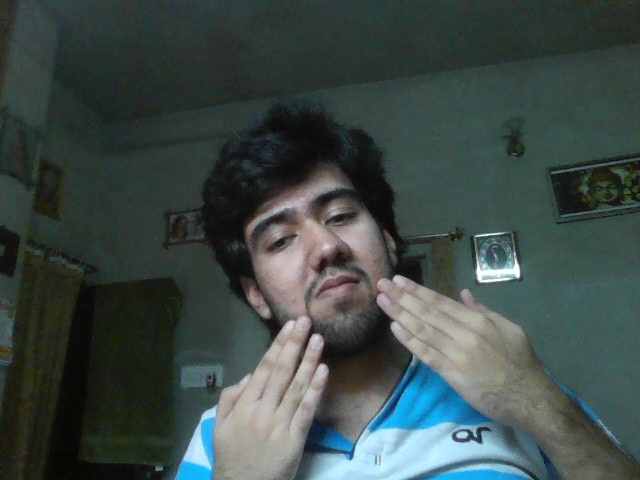ThankYou: (213, 274, 542, 480)
